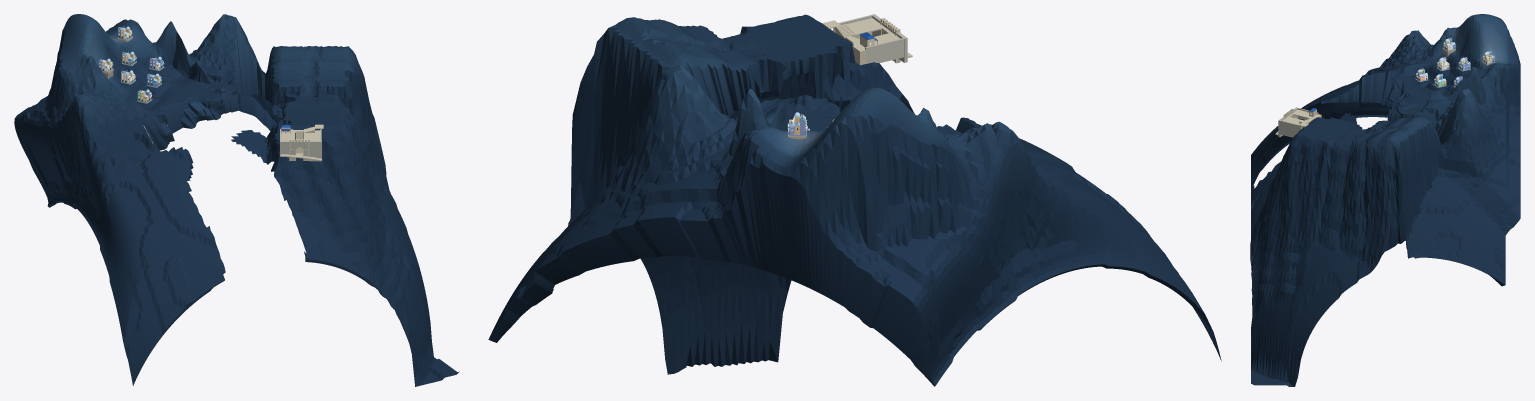
The model's file is citadel-master-terrain-placement-r01.glb.
3 views of the same model, side by side, from view 1: azimuth 30°, elevation 25°; view 2: azimuth 150°, elevation 25°; view 3: azimuth 270°, elevation 25° (orthographic). The views are drawn at different scales.
Visible parts, largest first — view 1: citadel-oskar-grid-mountain-surface, citadel-coastal-cliff-seal; view 2: citadel-oskar-grid-mountain-surface, citadel-coastal-cliff-seal, integrated-return-wall; view 3: citadel-oskar-grid-mountain-surface, citadel-coastal-cliff-seal, integrated-return-wall.
Part boxes in pixels (x1,y1,x2,y2): citadel-oskar-grid-mountain-surface: (14,14,459,386); citadel-coastal-cliff-seal: (140,31,286,180); citadel-oskar-grid-mountain-surface: (488,14,1221,386); citadel-coastal-cliff-seal: (684,57,975,133); integrated-return-wall: (865,38,903,63); citadel-oskar-grid-mountain-surface: (1250,14,1520,386); citadel-coastal-cliff-seal: (1321,71,1456,144); integrated-return-wall: (1280,120,1301,137).
Bounding box in the file's own units: 222 × 205 × 185.
98 materials, 1 textured.
